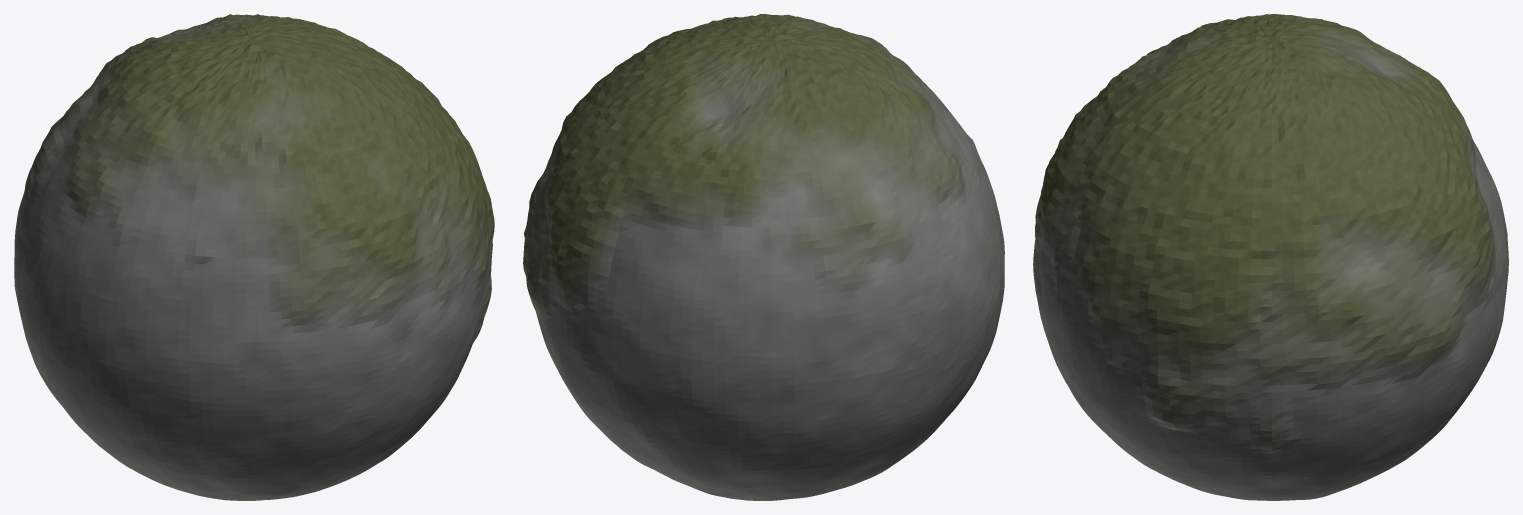
Rendered from orb_moss.glb.
3 views of the same model, side by side, from view 1: azimuth 30°, elevation 25°; view 2: azimuth 150°, elevation 25°; view 3: azimuth 270°, elevation 25° (orthographic).
Visible parts, largest first — view 1: part0; view 2: part0; view 3: part0.
Boxes of the visible parts, x1,y1,x2,y2 form: part0: [14, 14, 494, 500]; part0: [523, 14, 1004, 500]; part0: [1033, 14, 1508, 500].
Size of the model in its own units: 0.1011 by 0.1022 by 0.1001.
1 material, 1 textured.
